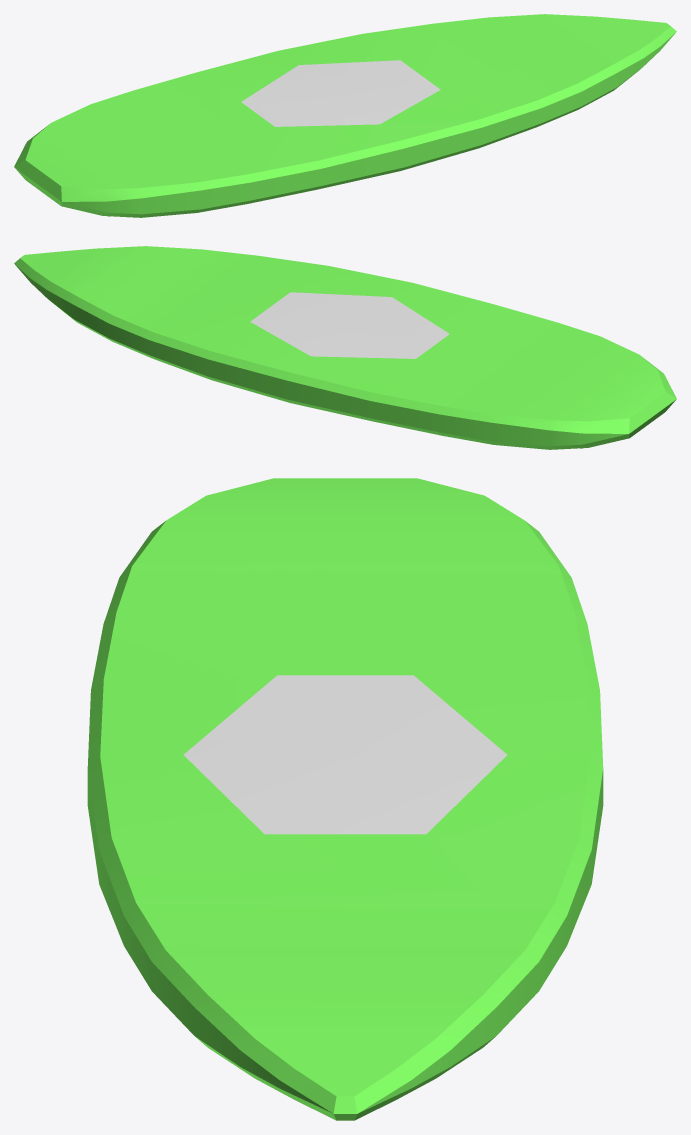
Rendered from sörf tahtası yeşil.fbx.
3 views of the same model, one above another, from view 1: azimuth 30°, elevation 25°; view 2: azimuth 150°, elevation 25°; view 3: azimuth 270°, elevation 25° (orthographic). The views are drawn at different scales.
Visible parts, largest first — view 1: pCube1; view 2: pCube1; view 3: pCube1.
Boxes of the visible parts, x1,y1,x2,y2 form: pCube1: (14,14,676,217); pCube1: (14,246,676,449); pCube1: (87,478,603,1120).
Size of the model in its own units: 294 by 29.19 by 103.
